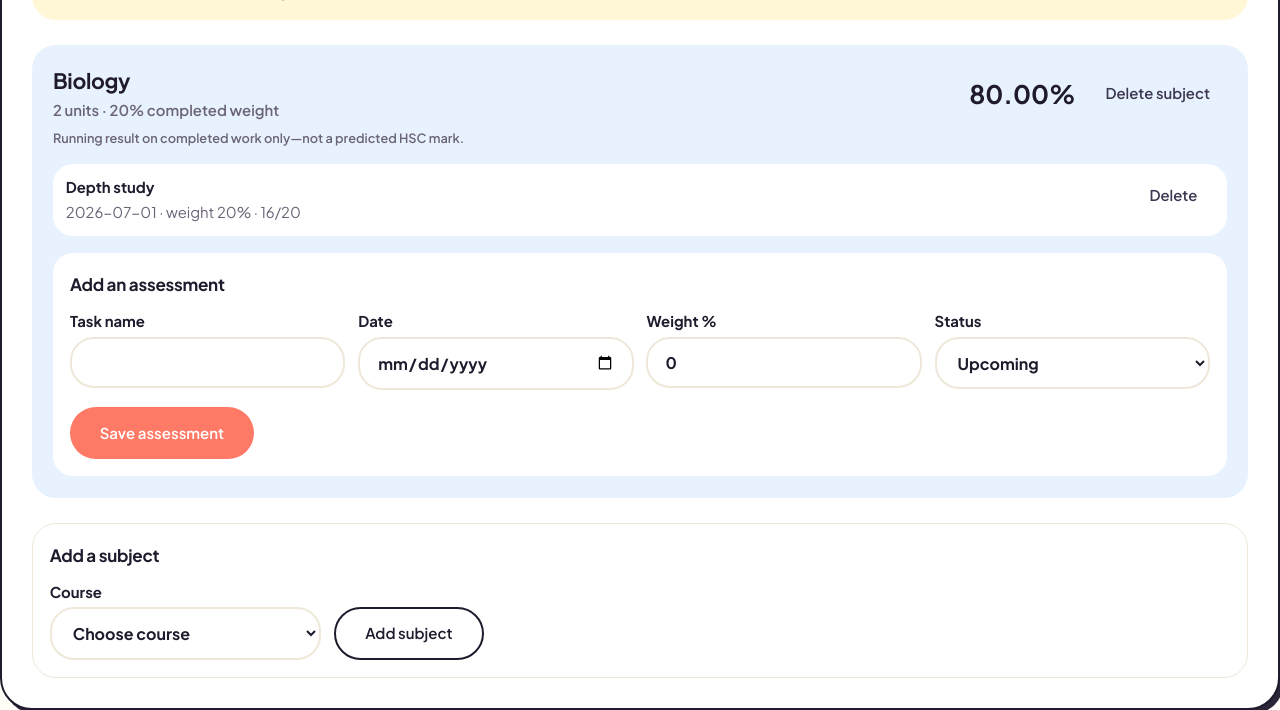
Test case: HscPlannerPage › refuses a blank weight instead of silently saving a 0% assessment
The image size is (1280, 710).
(page scrolled)
Expected: the text "Depth study" is shown, [66,178,155,196]
Type "Biology practical" into the field labelled "Task name". click: point(208, 362)
box: [70,337,345,388]
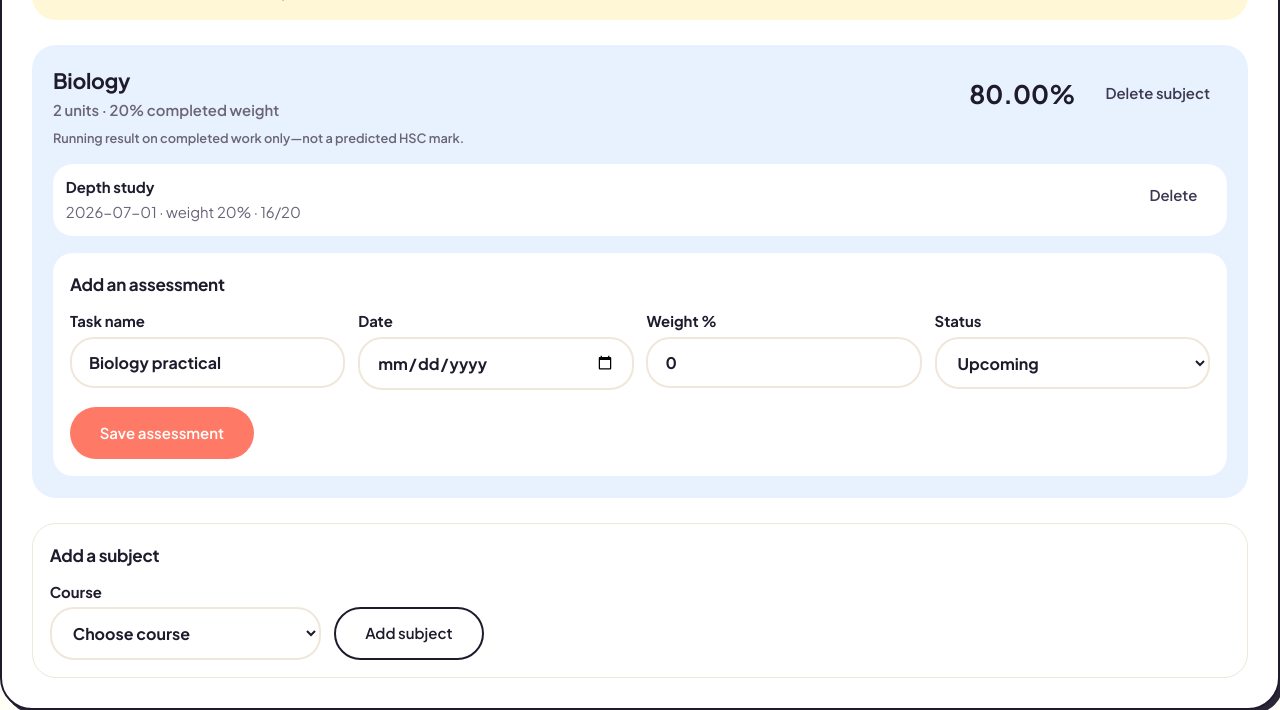
Type "2099-11-01" into the date field labelled "Date". click: point(496, 363)
box: [358,337,634,390]
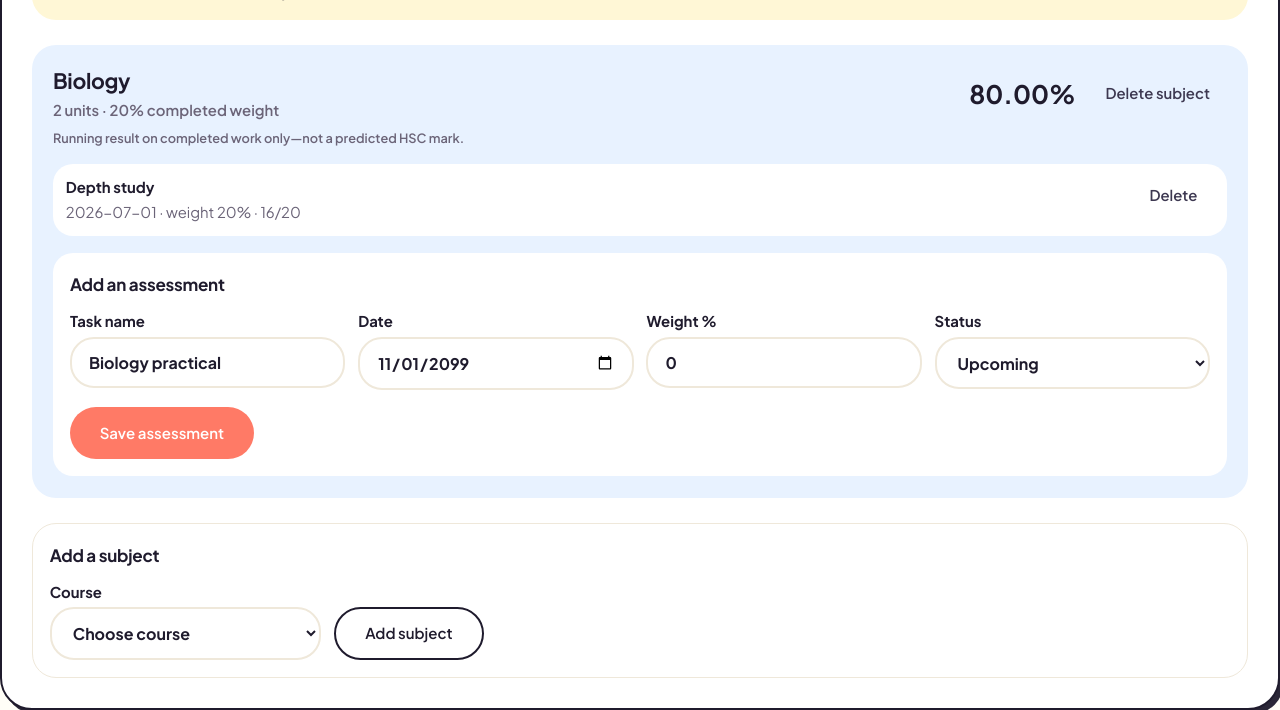
Clear the number field labelled "Weight %". click: point(784, 362)
box: [646,337,922,388]
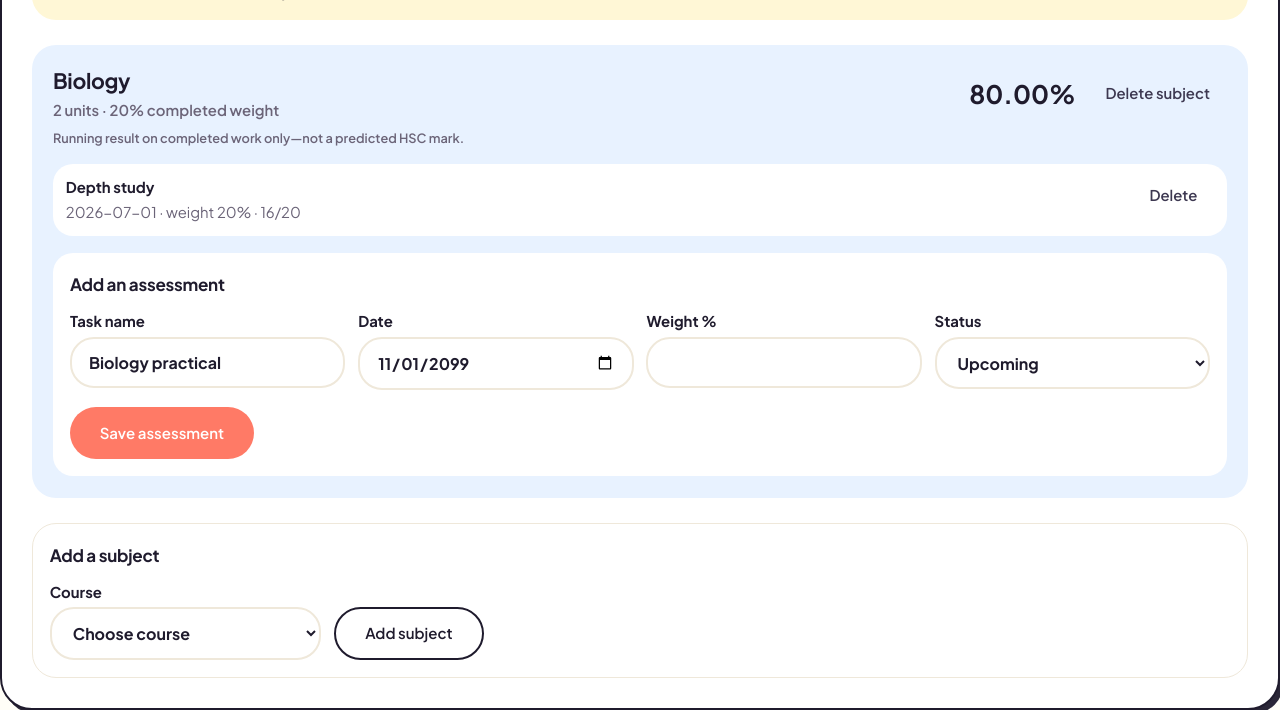
Click the button "Save assessment". click: point(162, 433)
box: [70,406,254,459]
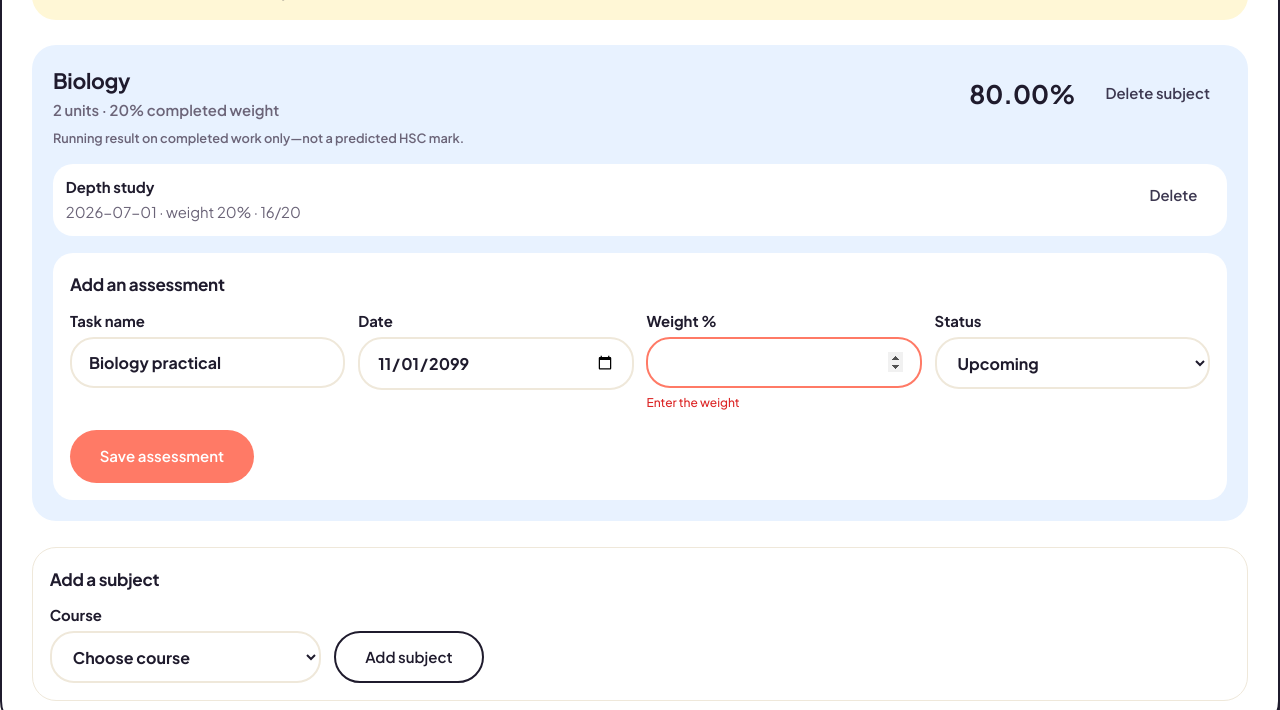
Now the text "Enter the weight" is shown, box [646,395,740,410]
